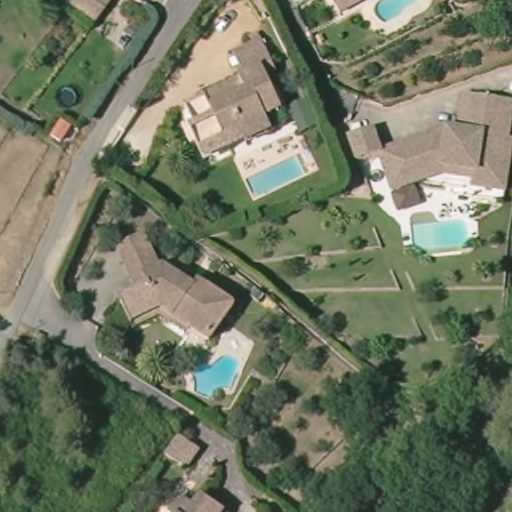pool: (404, 204, 480, 254), (244, 150, 309, 202), (185, 350, 242, 400), (369, 1, 429, 22), (52, 84, 81, 110)
